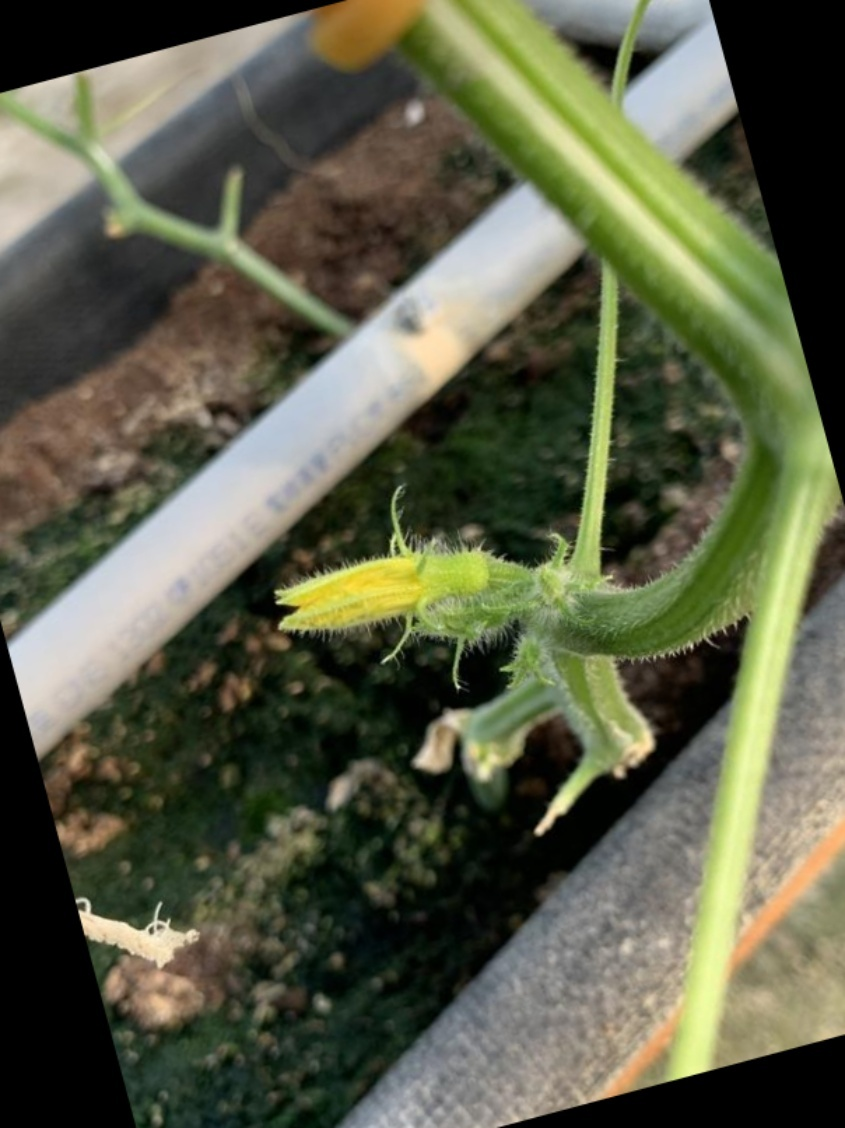bud: (269, 542, 531, 666)
